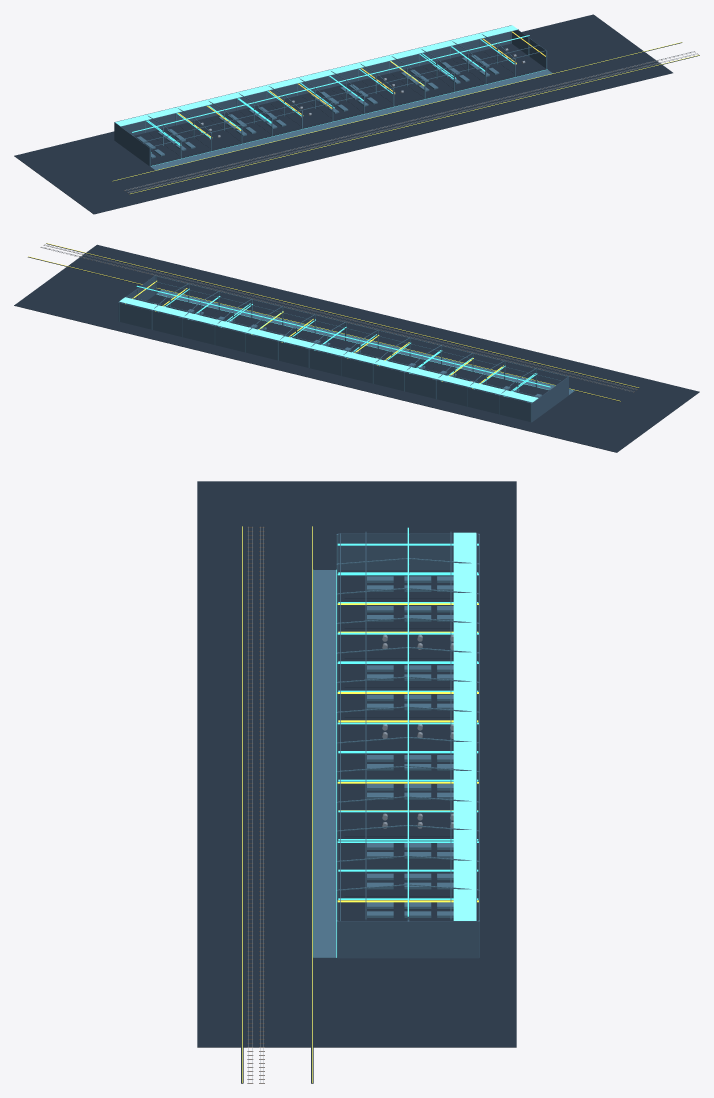
Rendered from rebar-core-v4-low.glb.
3 renders of one model, top to bottom at view 1: azimuth 30°, elevation 25°; view 2: azimuth 150°, elevation 25°; view 3: azimuth 270°, elevation 25°, orthographic. The views are drawn at different scales.
Parts seen in each view (by area): view 1: rebar-floor-slab.001, wh-north-cladding.001, wh-roof-glass-strip.001, transfer-apron-pad.001, bay-13-pad.001, bay-9-pad.001, bay-6-pad.001, bay-3-pad.001, gantry-runway-plinth-north.001, gantry-runway-plinth-south.001, wh-west-cladding.001, bay-4-pad.001 (+20 smaller); view 2: rebar-floor-slab.001, wh-north-cladding.001, wh-roof-glass-strip.001, transfer-apron-pad.001, gantry-runway-plinth-south.001, wh-west-cladding.001, wh-ridge-beam.001, gantry-runway-rail-south.001, gantry-runway-plinth-north.001, REBAR-TRACK-H3-rail.002, REBAR-TRACK-H3-rail.003, REBAR-TRACK-H4-rail.002 (+7 smaller); view 3: rebar-floor-slab.001, wh-roof-glass-strip.001, transfer-apron-pad.001, wh-east-cladding.001, wh-west-cladding.001, bay-9-pad.001, bay-3-pad.001, bay-6-pad.001, bay-11-pad.001, bay-8-pad.001, bay-10-pad.001, bay-1-pad.001 (+7 smaller).
Boxes of the visible parts, box(x1,y1,x2,y2) form: rebar-floor-slab.001: box(14, 14, 672, 214); wh-north-cladding.001: box(114, 25, 510, 135); wh-roof-glass-strip.001: box(115, 25, 517, 126); transfer-apron-pad.001: box(150, 69, 552, 170); bay-13-pad.001: box(484, 45, 542, 75); bay-9-pad.001: box(362, 75, 420, 104); bay-6-pad.001: box(271, 97, 328, 127); bay-3-pad.001: box(179, 119, 237, 149); gantry-runway-plinth-north.001: box(112, 42, 682, 181); gantry-runway-plinth-south.001: box(130, 55, 699, 194); wh-west-cladding.001: box(114, 122, 149, 166); bay-4-pad.001: box(210, 112, 268, 141); rebar-floor-slab.001: box(14, 244, 699, 452); wh-north-cladding.001: box(118, 303, 531, 421); wh-roof-glass-strip.001: box(119, 297, 538, 402); transfer-apron-pad.001: box(156, 290, 574, 394); gantry-runway-plinth-south.001: box(46, 243, 638, 388); wh-west-cladding.001: box(532, 376, 568, 421); wh-ridge-beam.001: box(136, 285, 550, 387); gantry-runway-rail-south.001: box(46, 243, 638, 387); gantry-runway-plinth-north.001: box(28, 257, 621, 401); REBAR-TRACK-H3-rail.002: box(45, 244, 636, 389); REBAR-TRACK-H3-rail.003: box(44, 245, 636, 389); REBAR-TRACK-H4-rail.002: box(42, 247, 634, 391); rebar-floor-slab.001: box(197, 481, 516, 1047); wh-roof-glass-strip.001: box(453, 532, 476, 920); transfer-apron-pad.001: box(314, 570, 336, 957); wh-east-cladding.001: box(337, 921, 479, 958); wh-west-cladding.001: box(338, 533, 478, 570); bay-9-pad.001: box(344, 812, 453, 836); bay-3-pad.001: box(344, 634, 453, 658); bay-6-pad.001: box(344, 722, 453, 746); bay-11-pad.001: box(344, 871, 453, 896); bay-8-pad.001: box(344, 781, 453, 806); bay-10-pad.001: box(344, 840, 453, 865); bay-1-pad.001: box(344, 575, 453, 598).
Size of the model in its own units: 610 by 20.38 by 137.
